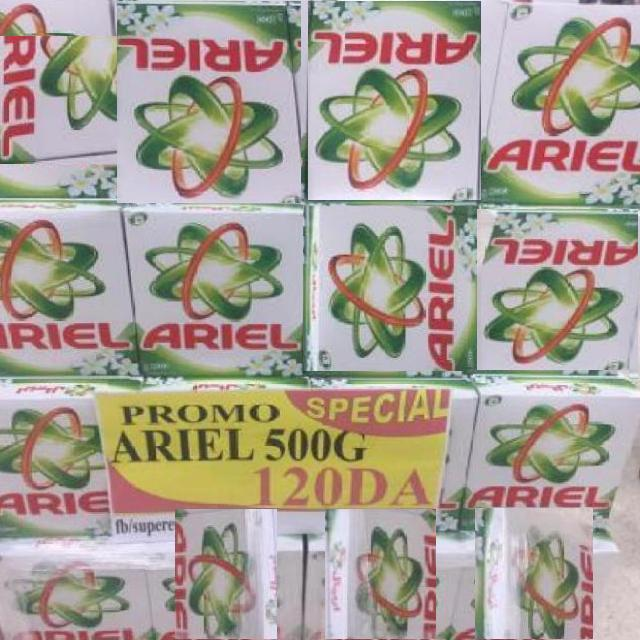Detergent: (116, 0, 301, 203), (308, 0, 481, 200), (483, 0, 640, 200), (130, 207, 303, 383), (303, 205, 481, 371), (477, 209, 638, 379), (474, 370, 629, 530), (0, 208, 131, 380), (0, 37, 164, 164), (0, 370, 108, 543), (476, 507, 593, 640), (325, 508, 436, 640), (0, 540, 145, 639), (175, 510, 277, 640)
